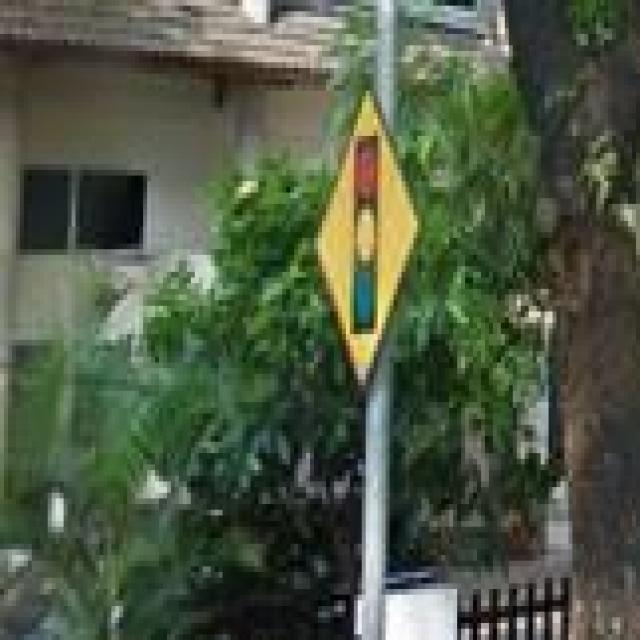traffic sign: (322, 85, 414, 385)
